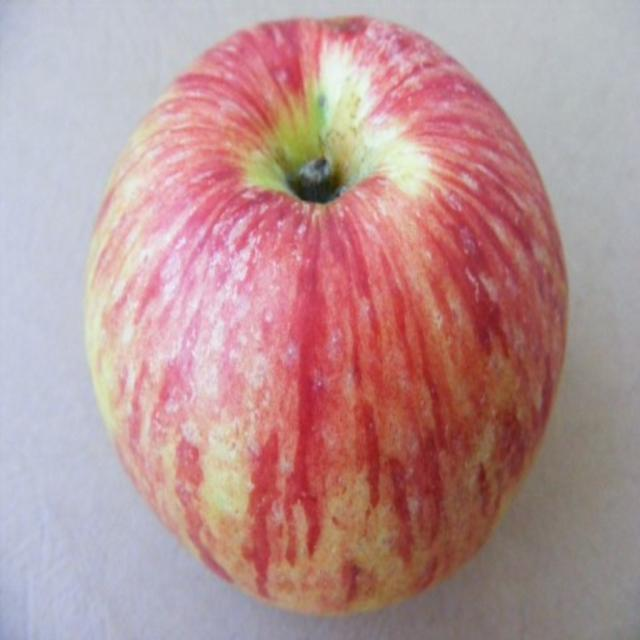Healty Apple: (65, 0, 576, 640)
